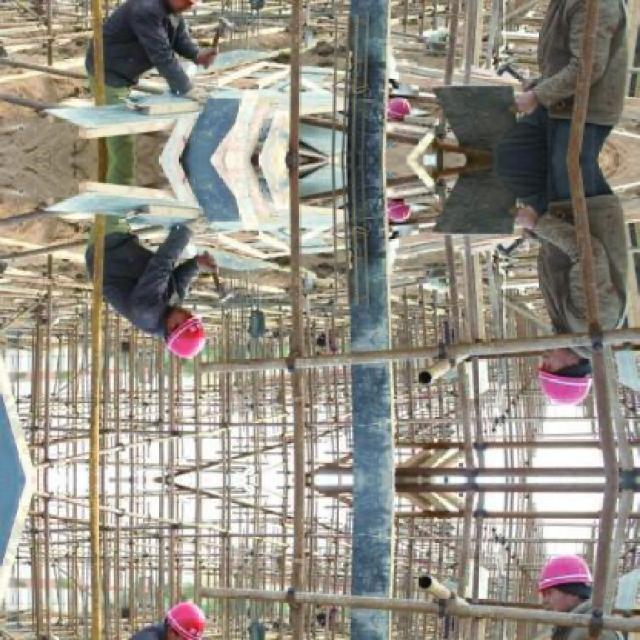con casco: (485, 328, 597, 407), (149, 306, 222, 384)
